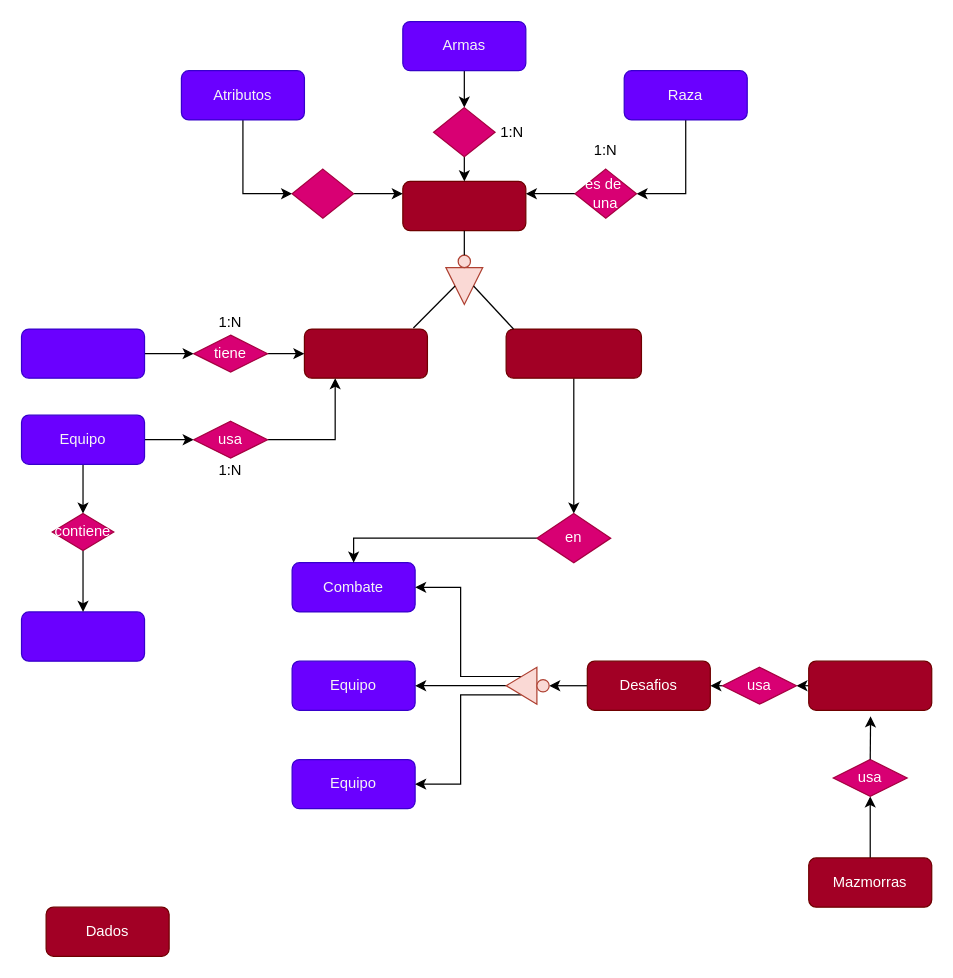
Some shapes in this 953 by 978 pixel diagram are drawn without their labels. The shapes that lost their labels are listed below. From the top down, each one's centre as x and y in pixels, then its label:
At (x=463, y=131): "usan".
At (x=322, y=193): "tienen".
At (x=464, y=205): "Personaje".
At (x=82, y=353): "Clase".
At (x=365, y=353): "Jugable".
At (x=573, y=353): "No Jugable".
At (x=82, y=636): "Suministros".
At (x=869, y=685): "Salas".
